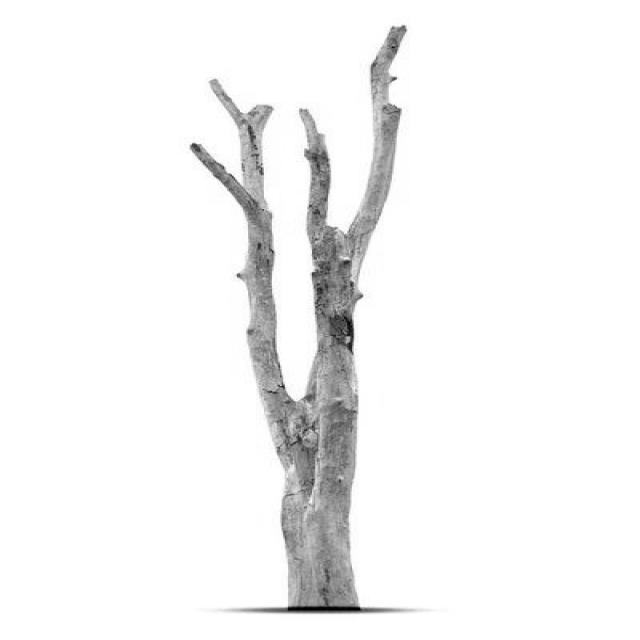Tree: (190, 26, 407, 611)
